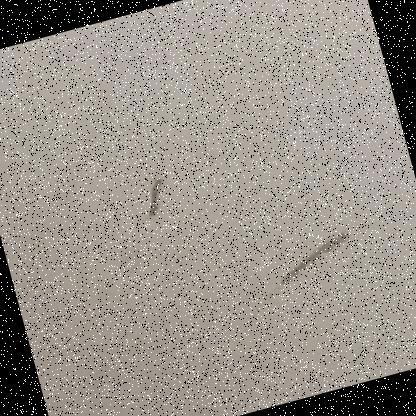Crack: (218, 200, 378, 328), (108, 154, 198, 248)
